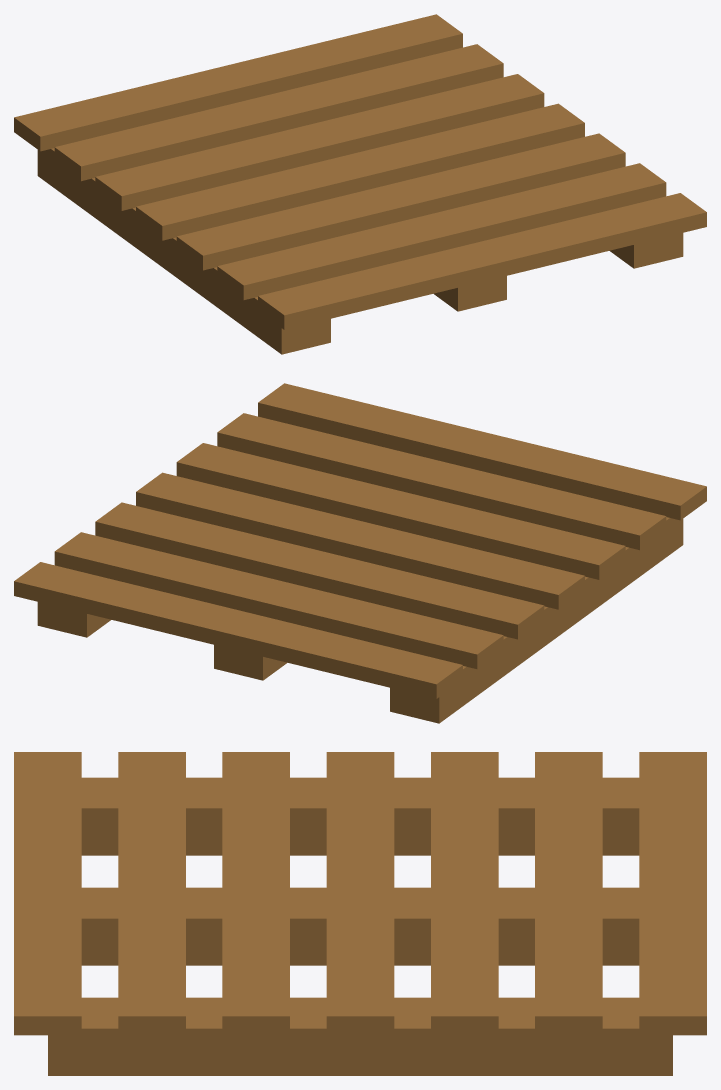
Rendered from PRP_Pallet.fbx.
3 views of the same model, one above another, from view 1: azimuth 30°, elevation 25°; view 2: azimuth 150°, elevation 25°; view 3: azimuth 270°, elevation 25° (orthographic). The views are drawn at different scales.
Visible parts, largest first — view 1: PRP_Pallet__BODY; view 2: PRP_Pallet__BODY; view 3: PRP_Pallet__BODY.
Boxes of the visible parts, bbox=[...] form: PRP_Pallet__BODY: bbox=[14, 14, 706, 354]; PRP_Pallet__BODY: bbox=[14, 383, 706, 723]; PRP_Pallet__BODY: bbox=[14, 752, 706, 1075].
Bounding box in the file's own units: 1.2 × 0.14 × 1.33.
